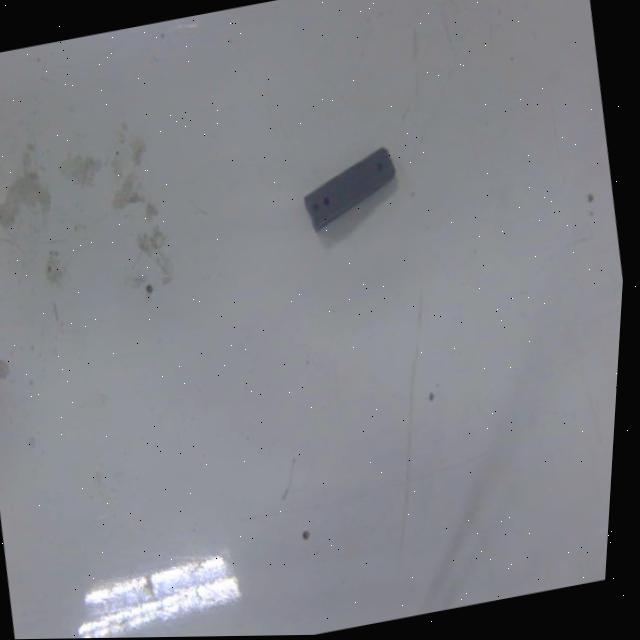grey: (291, 134, 406, 232)
head: (373, 155, 386, 173)
